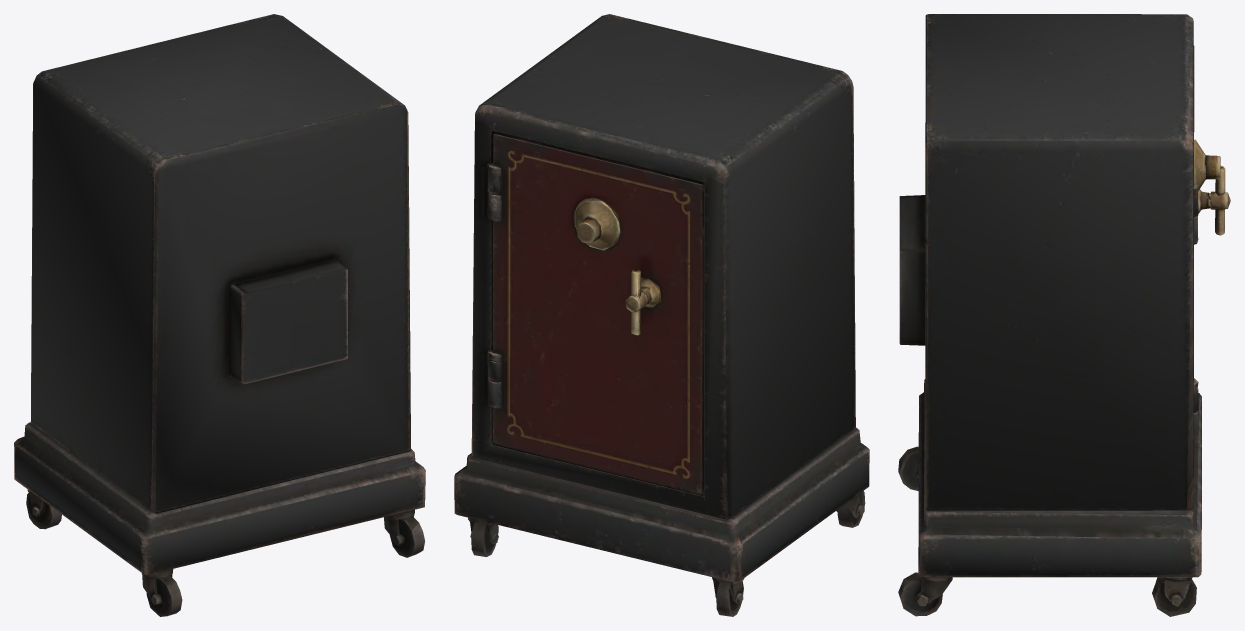
Rendered from safe.glb.
3 renders of one model, left to right at view 1: azimuth 30°, elevation 25°; view 2: azimuth 150°, elevation 25°; view 3: azimuth 270°, elevation 25°, orthographic. The views are drawn at different scales.
Visible parts, largest first — view 1: safe; view 2: safe; view 3: safe.
Part boxes in pixels (bbox=[...]): safe: bbox=[14, 14, 425, 616]; safe: bbox=[454, 14, 869, 616]; safe: bbox=[898, 14, 1230, 616].
Size of the model in its own units: 0.626 by 0.95 by 0.6001.
1 material, 1 textured.
